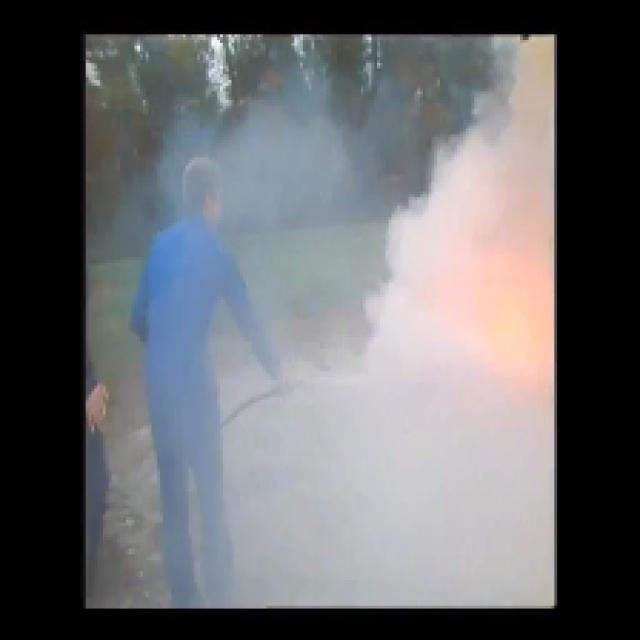Smoke: (317, 377, 554, 609)
